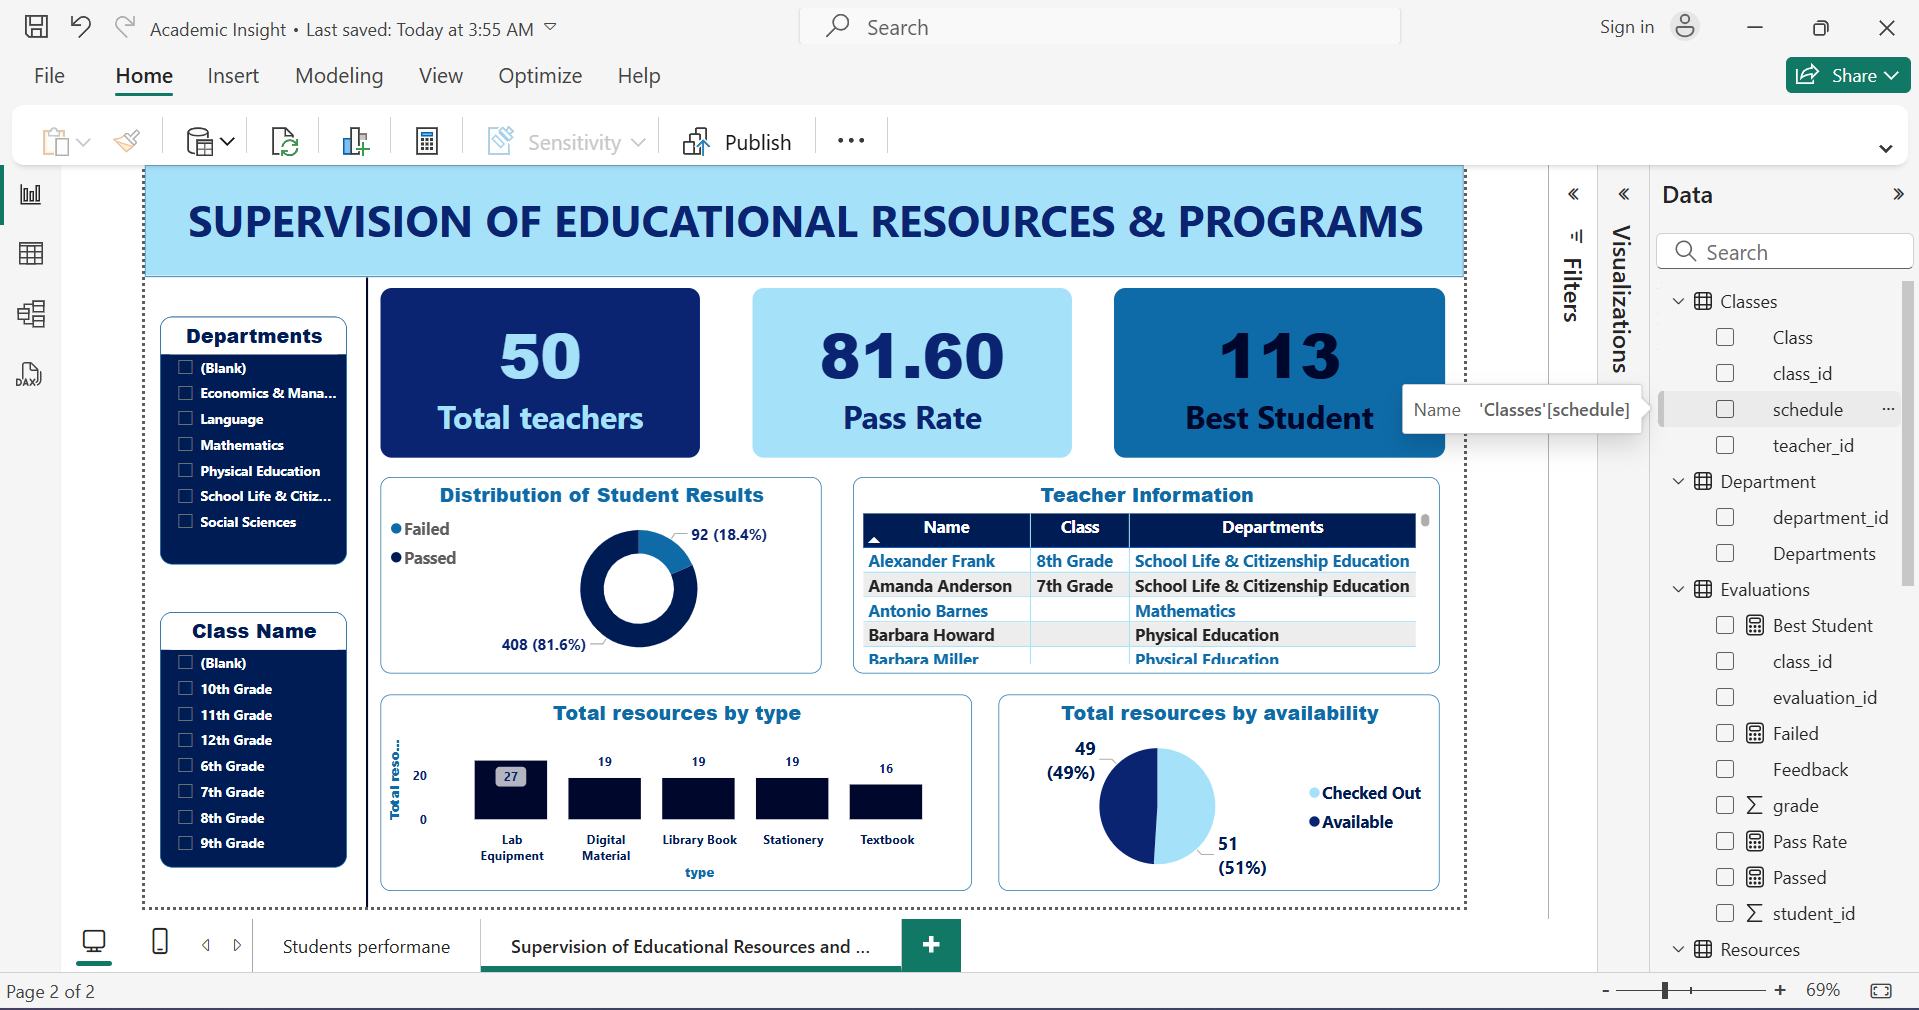

The page's visual inventory and layout, read from the dashboard file:
{"tool":"powerbi","page":{"name":"Supervision of Educational Resources and Programs","canvas":[1280,720],"ordinal":2},"visuals":[{"type":"shape","box":[0,0,1279.5,108.6],"z":0},{"type":"textbox","box":[26.4,18.6,1229.9,71.3],"z":1000},{"type":"shape","box":[167.5,108.6,96.2,611.1],"z":2000},{"type":"slicer","title":"Class Name","fields":{"Values":["Classes.class_name"]},"box":[14,434.2,181.5,248.1],"z":3000},{"type":"slicer","title":"Departments ","fields":{"Values":["Department.department_name"]},"box":[14,147.3,181.5,240.4],"z":4000},{"type":"card","fields":{"Values":["Teachers.Total teachers"]},"box":[228,119.4,310.2,164.4],"z":5000},{"type":"card","fields":{"Values":["Evaluations.Pss Rate"]},"box":[589.3,119.4,310.2,164.4],"z":6000},{"type":"card","fields":{"Values":["Evaluations.Best Student"]},"box":[939.8,119.4,321,164.4],"z":7000},{"type":"tableEx","title":"Teacher Information","fields":{"Values":["Teachers.name","Classes.class_name","Department.Department name"]},"box":[687,302.4,569.2,190.8],"z":8000},{"type":"lineClusteredColumnComboChart","fields":{"Category":["Resources.type"],"Y":["Resources.Total resources"]},"box":[228,513.3,573.8,190.8],"z":9000},{"type":"pieChart","fields":{"Category":["Resources.availability"],"Y":["Resources.Total resources"]},"box":[828.2,513.3,428,190.8],"z":10000},{"type":"donutChart","title":"Distribution of Student Results","fields":{"Y":["Evaluations.Failed","Evaluations.Passed"]},"box":[228,302.4,428,190.8],"z":11000}]}

Visuals, with their boxes on the page's 1280x720 design canvas (x1, y1, x2, y2). These are canvas units, not pixel positions in the 1919x1010 screenshot, which may show the page scaled, cropped or inside an application window:
shape: 0,0,1280,109
textbox: 26,19,1256,90
shape: 168,109,264,720
"Class Name" slicer: 14,434,196,682
"Departments " slicer: 14,147,196,388
card - Teachers.Total teachers: 228,119,538,284
card - Evaluations.Pss Rate: 589,119,900,284
card - Evaluations.Best Student: 940,119,1261,284
"Teacher Information" tableEx: 687,302,1256,493
lineClusteredColumnComboChart - Resources.type x Resources.Total resources: 228,513,802,704
pieChart - Resources.availability x Resources.Total resources: 828,513,1256,704
"Distribution of Student Results" donutChart: 228,302,656,493
